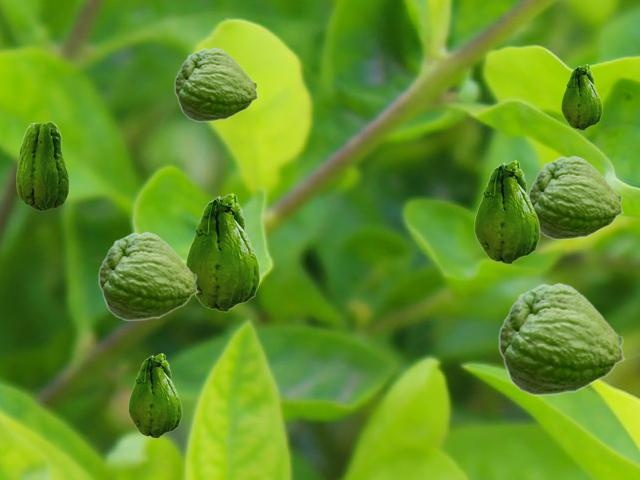sayote: (498, 282, 625, 395), (98, 231, 198, 320), (185, 193, 259, 311), (528, 155, 623, 239), (474, 160, 539, 263), (174, 47, 258, 121), (16, 121, 68, 210), (128, 353, 181, 437), (561, 64, 601, 129)
